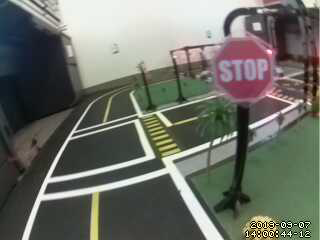Stop_Sign: (214, 36, 279, 102)
